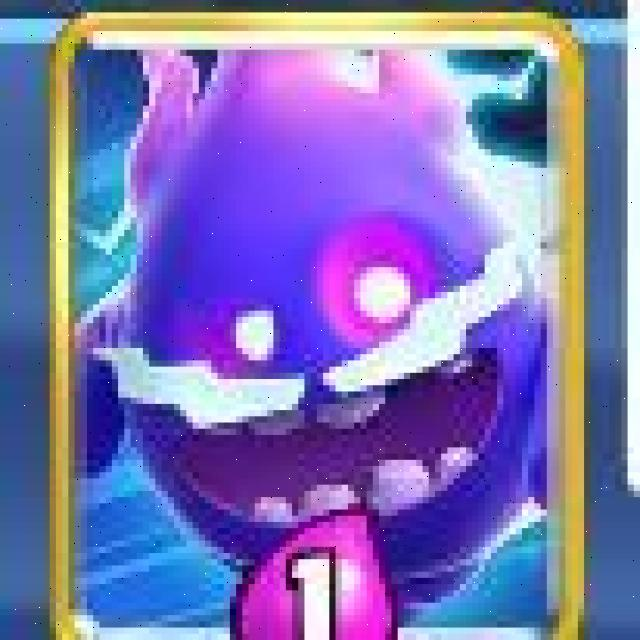Electro_Spirit: (49, 11, 585, 640)
